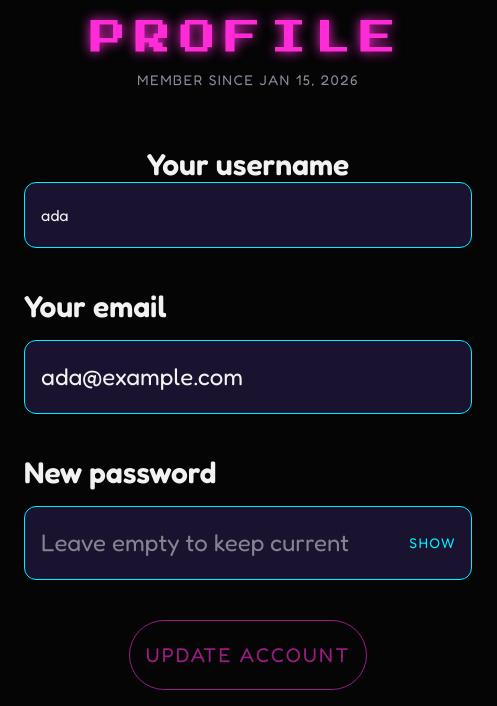
Test: Profile page › shows a validation error and disables Update for an invalid username
The image size is (497, 706).
Replace the text in the field with placeholder "username" with "john doe" at (248, 215), box [24,182,472,248]
(page scrolled)
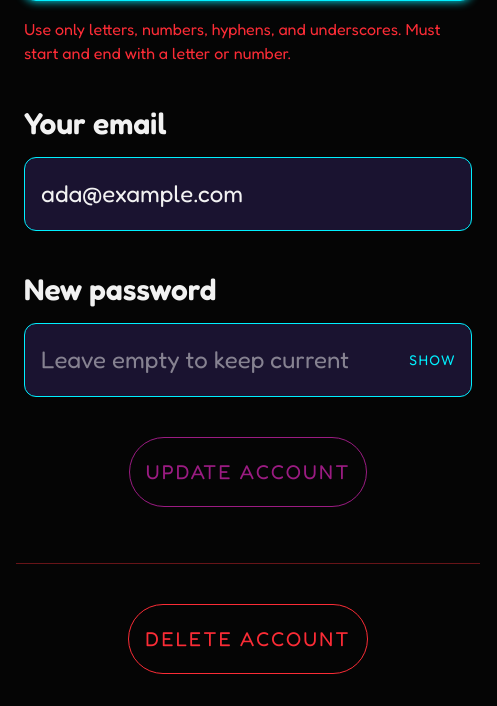
Expected: the button "Update account" is disabled, [129,437,367,507]
Expected: the text "Use only letters, numbers, hyphens, and underscores. Must start and end with a letter or number." is shown, [24,19,440,63]
